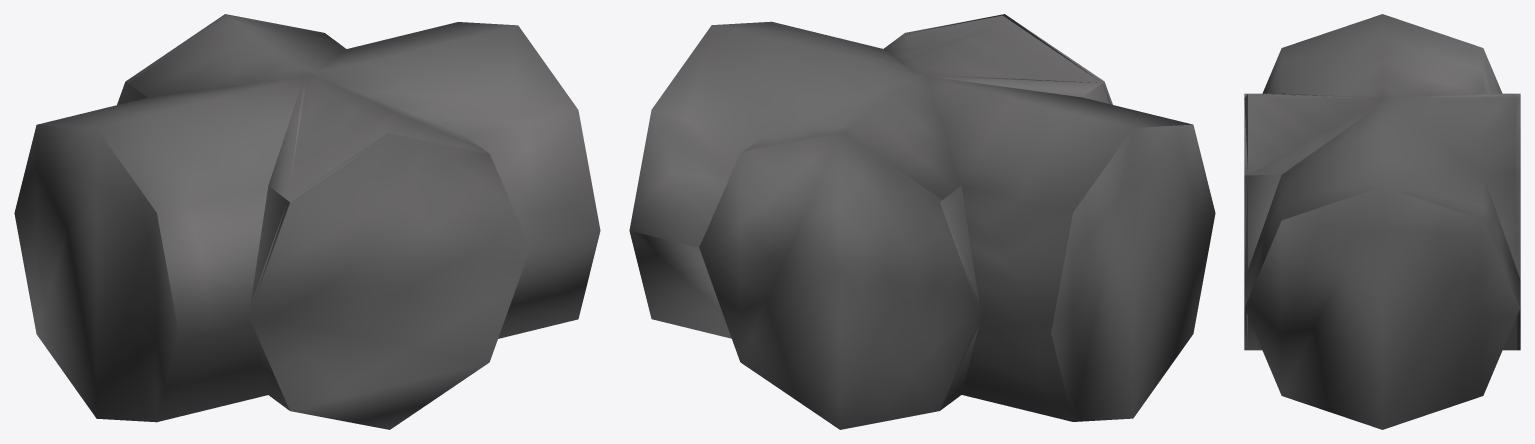
Rendered from r_talus.dae.
3 renders of one model, left to right at view 1: azimuth 30°, elevation 25°; view 2: azimuth 150°, elevation 25°; view 3: azimuth 270°, elevation 25°, orthographic. The views are drawn at different scales.
Parts seen in each view (by area): view 1: p39137_1, p39263_1; view 2: p39137_1, p39263_1; view 3: p39137_1.
Part boxes in pixels (bbox=[...]): p39137_1: bbox=[14, 14, 600, 422]; p39263_1: bbox=[249, 135, 530, 429]; p39137_1: bbox=[629, 14, 1215, 421]; p39263_1: bbox=[699, 134, 980, 429]; p39137_1: bbox=[1244, 14, 1520, 429].
Bounding box in the file's own units: 0.0296 × 0.0201 × 0.0199.
